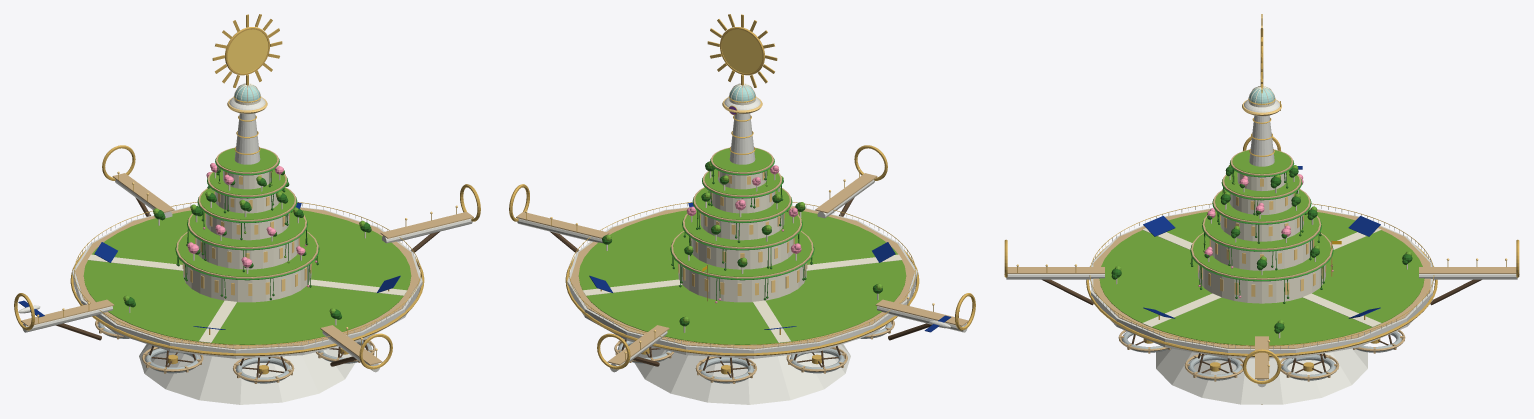
File: station_command.obj
3 renders of one model, left to right at view 1: azimuth 30°, elevation 25°; view 2: azimuth 150°, elevation 25°; view 3: azimuth 270°, elevation 25°, orthographic.
Visible parts, largest first — view 1: station_command; view 2: station_command; view 3: station_command.
Part boxes in pixels (box(x1,y1,x2,y2)): station_command: box(14, 14, 480, 404); station_command: box(509, 14, 975, 404); station_command: box(1004, 14, 1519, 404).
Size of the model in its own units: 1500 by 1201 by 1500.
1 material, 1 textured.
